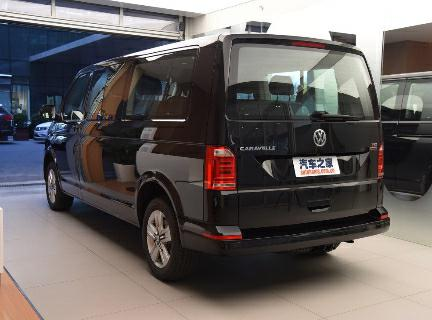大众-凯路威: (34, 26, 399, 291)
